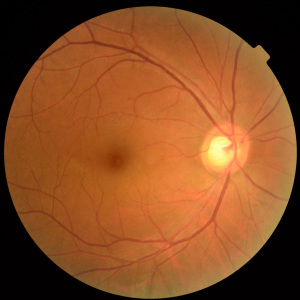glaucoma: (47, 104, 262, 220)
